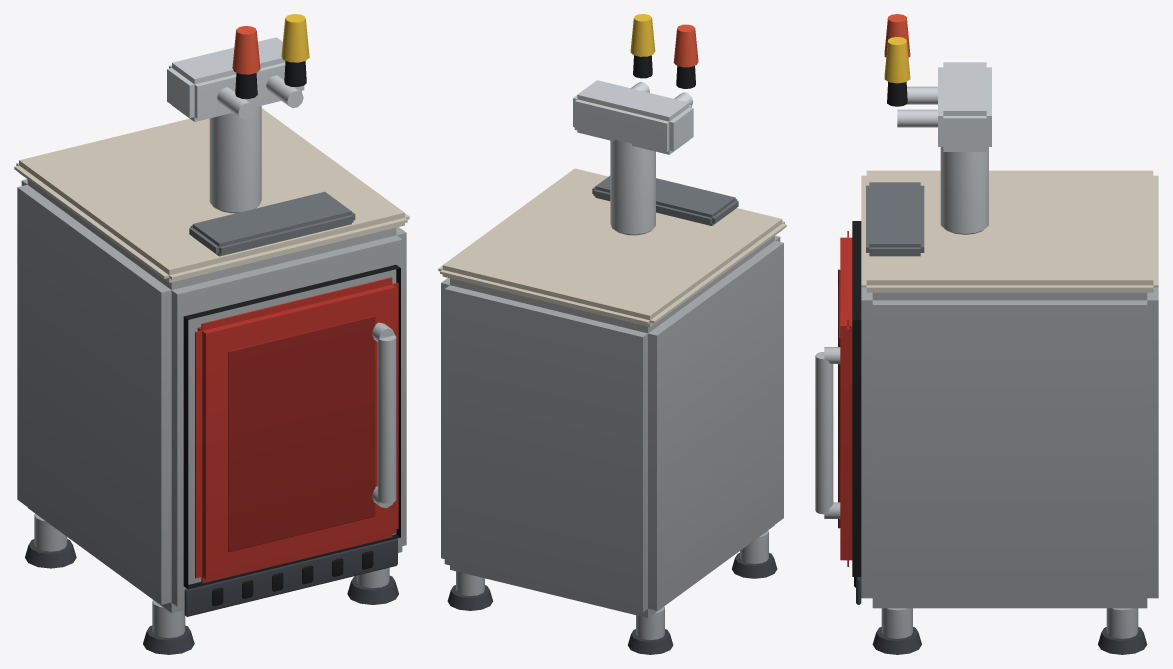
File: SM_Kegerator_01.glb
3 views of the same model, side by side, from view 1: azimuth 30°, elevation 25°; view 2: azimuth 150°, elevation 25°; view 3: azimuth 270°, elevation 25° (orthographic). The views are drawn at different scales.
Visible parts, largest first — view 1: SM_Kegerator_01; view 2: SM_Kegerator_01; view 3: SM_Kegerator_01.
Boxes of the visible parts, bbox=[...] form: SM_Kegerator_01: bbox=[14, 14, 409, 654]; SM_Kegerator_01: bbox=[438, 14, 786, 654]; SM_Kegerator_01: bbox=[815, 14, 1158, 654].
Size of the model in its own units: 0.61 by 1.39 by 0.762.
1 material, 1 textured.
